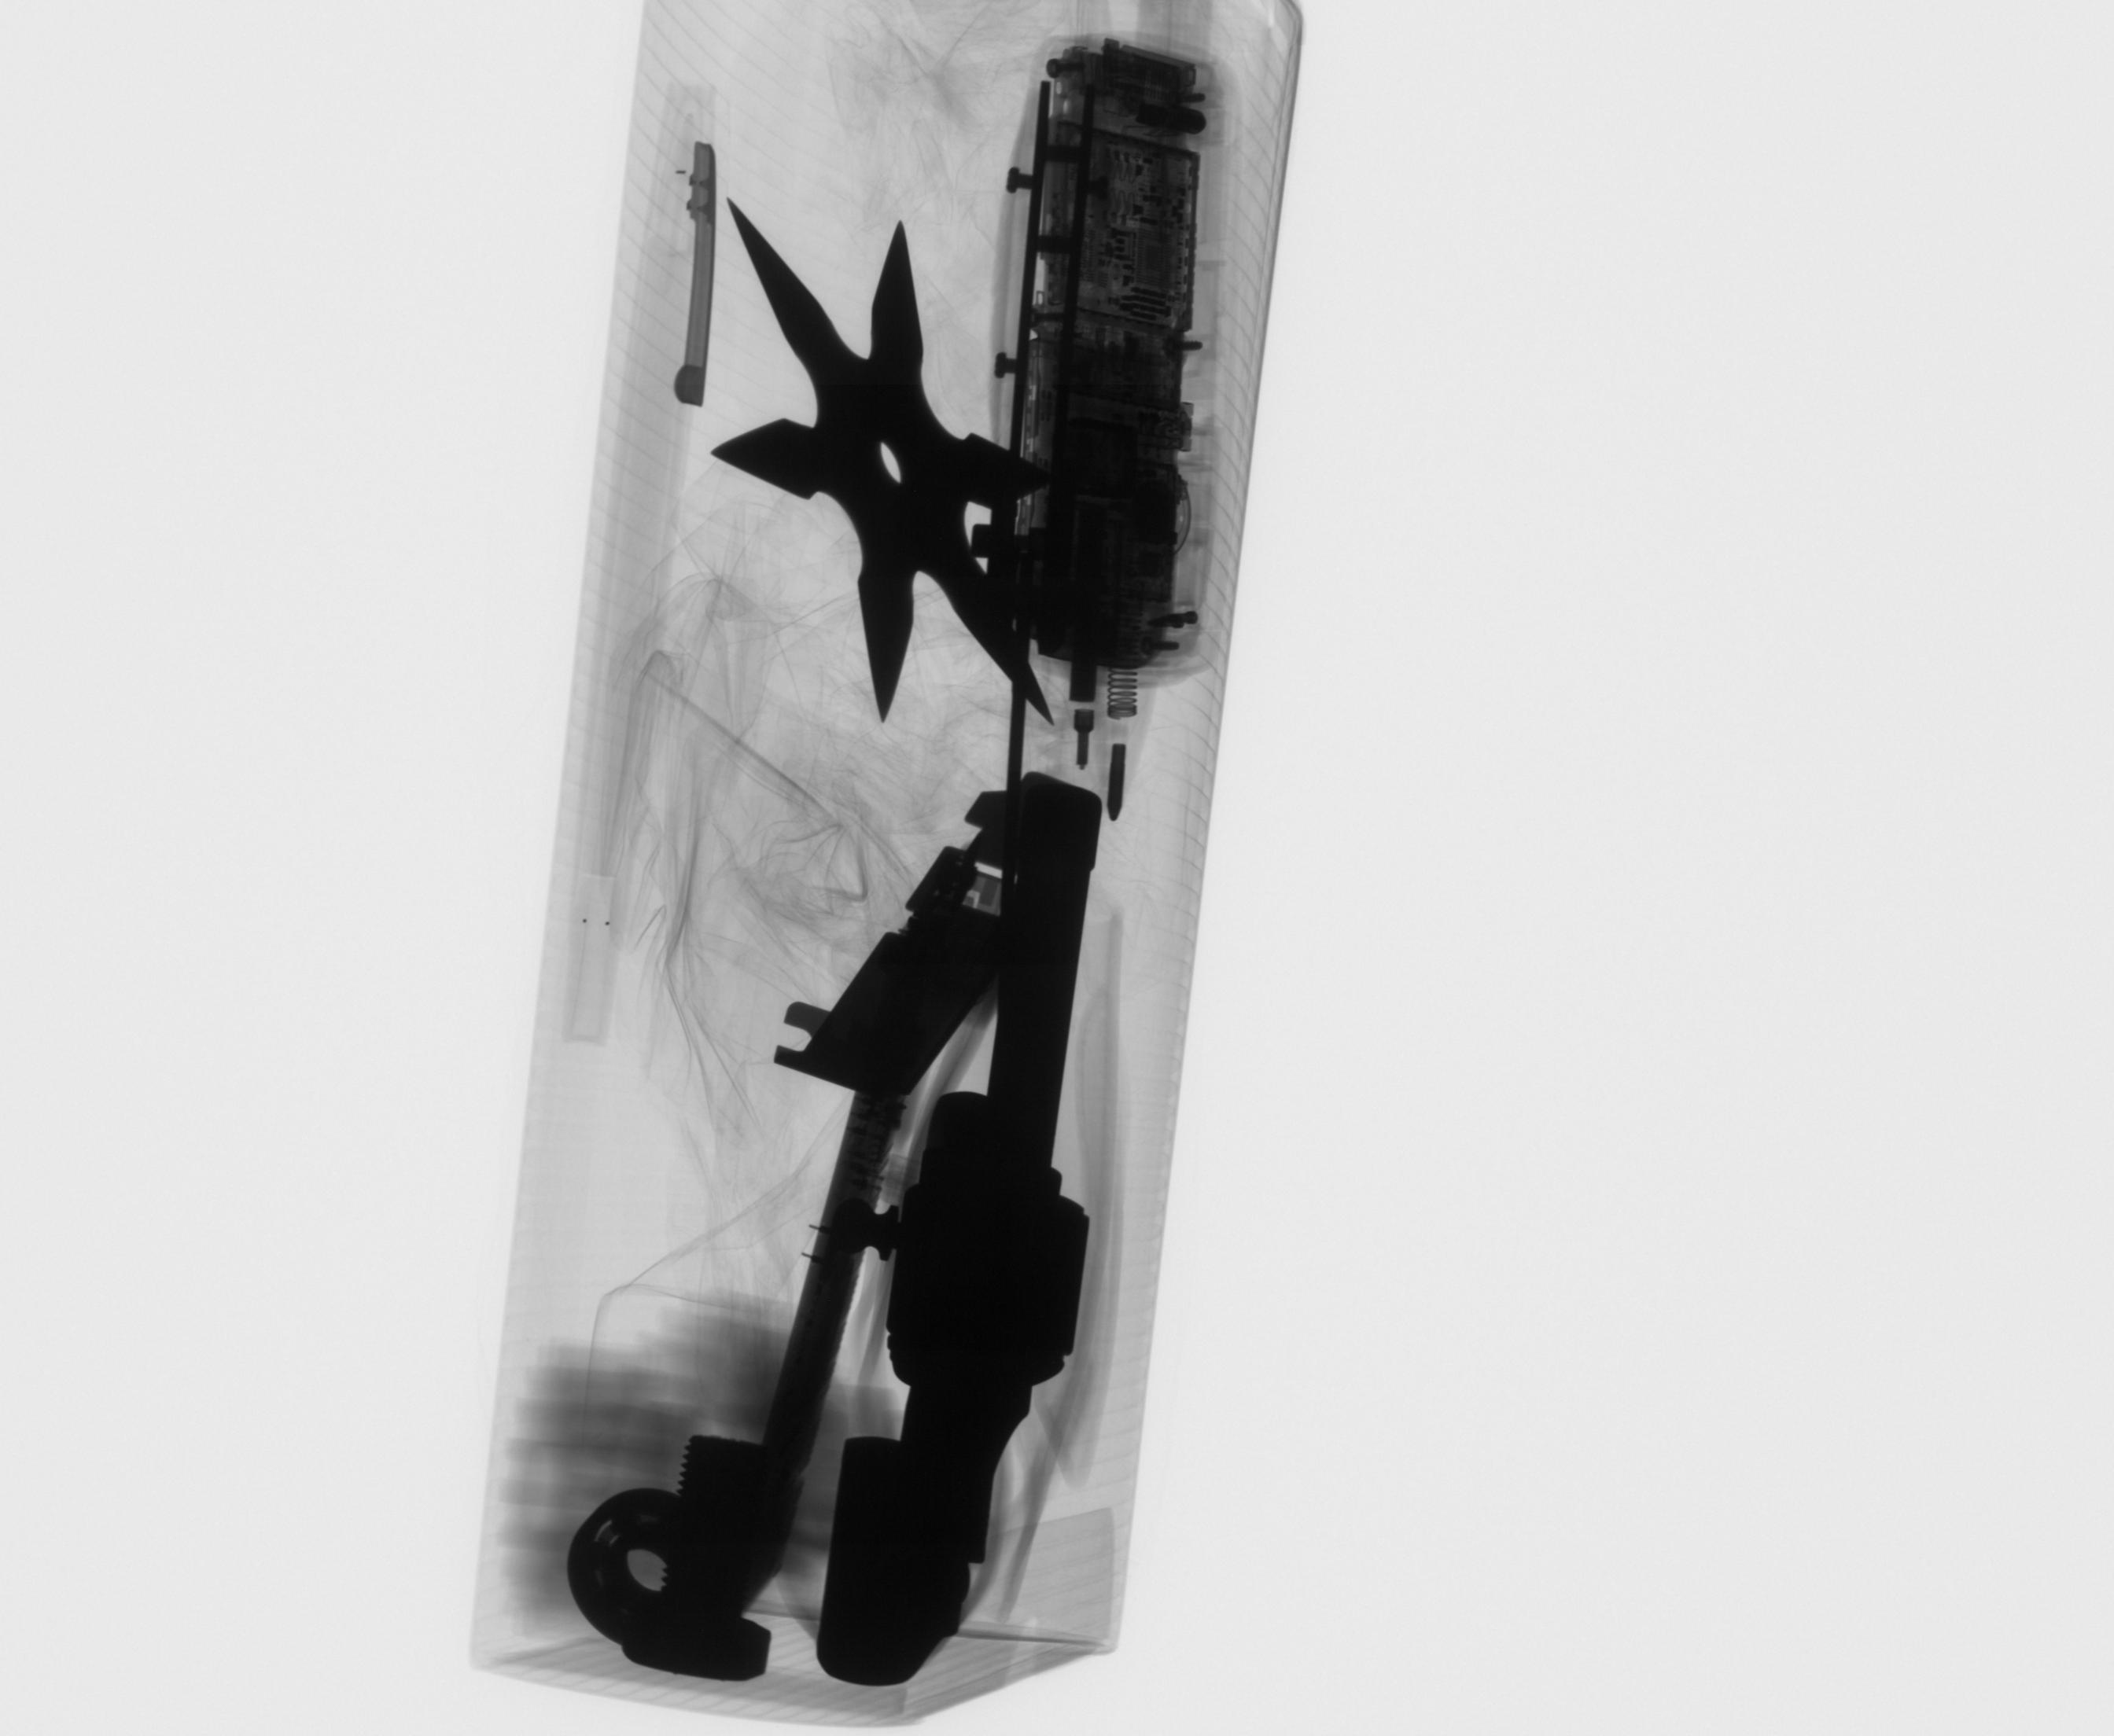Handgun: (805, 765, 1110, 1694)
Shuriken: (705, 189, 1073, 737)
